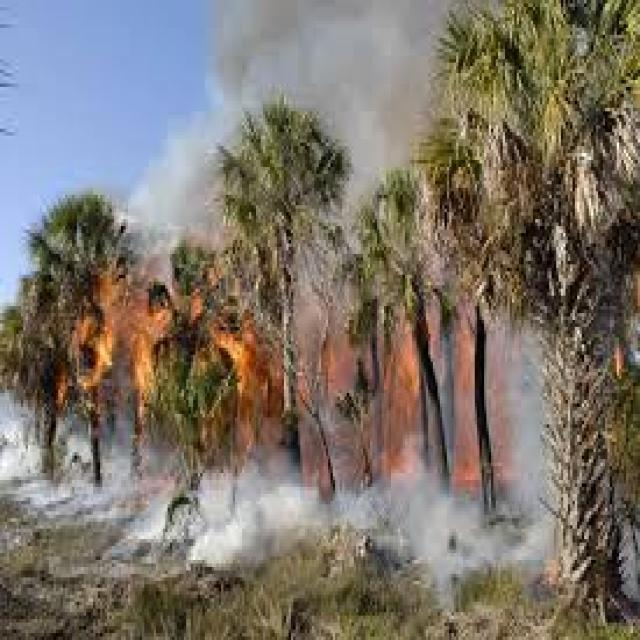Fire: (92, 279, 157, 396), (215, 325, 267, 403)
Smoke: (2, 335, 559, 597), (208, 2, 447, 184), (128, 114, 215, 234)
